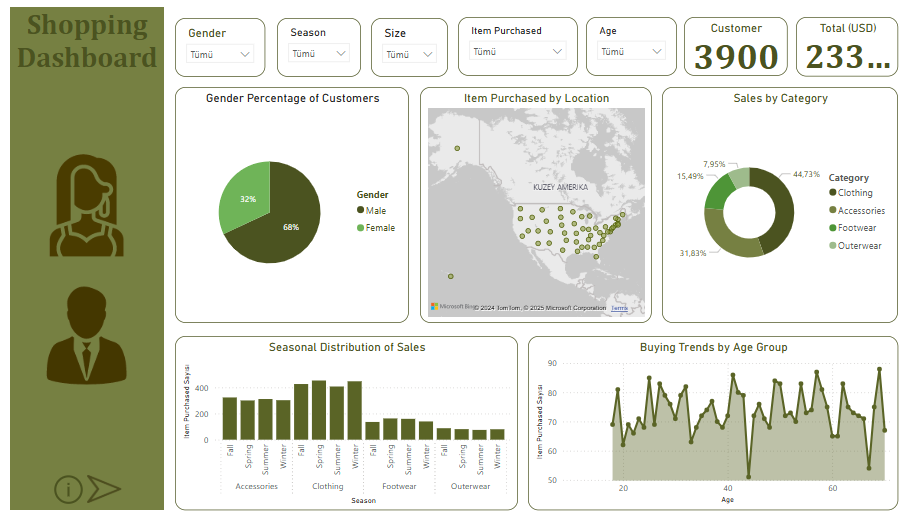

Layout of this report page (visuals, bound fields, positions):
{"tool":"powerbi","page":{"name":"Shopping Dashboard","canvas":[1280,720],"ordinal":0},"visuals":[{"type":"card","title":"Total (USD)","fields":{"Values":["Sum(shopping.Purchase Amount (USD))"]},"box":[1122.2,14.5,146.2,85.4],"z":0},{"type":"card","title":"Customer","fields":{"Values":["CountNonNull(shopping.Gender)"]},"box":[962.9,14.5,147.7,84],"z":1000},{"type":"pieChart","title":"Gender Percentage of Customers","fields":{"Category":["shopping.Gender"],"Y":["CountNonNull(shopping.Customer ID)"]},"box":[236,114.4,334.5,337.4],"z":2000},{"type":"slicer","fields":{"Values":["shopping.Gender"]},"box":[236,15.9,128.9,84],"z":3000},{"type":"clusteredColumnChart","title":"Seasonal Distribution of Sales","fields":{"Category":["shopping.Category","shopping.Season"],"Y":["CountNonNull(shopping.Item Purchased)"]},"box":[235.4,470.7,490,249.1],"z":4000},{"type":"areaChart","title":"Buying Trends by Age Group","fields":{"Category":["shopping.Age"],"Y":["CountNonNull(shopping.Item Purchased)"]},"box":[740,470,528.6,248.6],"z":5000},{"type":"slicer","title":"Size","fields":{"Values":["shopping.Size"]},"box":[515.5,15.9,110,84],"z":6000},{"type":"slicer","fields":{"Values":["shopping.Age"]},"box":[822.4,14.5,130.3,84],"z":7000},{"type":"slicer","fields":{"Values":["shopping.Item Purchased"]},"box":[640,14.5,170.9,84],"z":8000},{"type":"slicer","fields":{"Values":["shopping.Season"]},"box":[380.8,15.9,120.2,84],"z":9000},{"type":"donutChart","title":"Sales by Category","fields":{"Category":["shopping.Category"],"Y":["Sum(shopping.Purchase Amount (USD))"]},"box":[931,114.4,337.4,337.4],"z":10000},{"type":"shape","title":"Shopping Dashboard","box":[0,0,220,718.6],"z":11000},{"type":"map","title":"Item Purchased by Location","fields":{"Category":["shopping.Location"]},"box":[585.7,114.3,331.4,337.1],"z":12000},{"type":"actionButton","box":[57.1,660,52.9,58.6],"z":13000},{"type":"image","box":[31.4,204.3,155.7,157.1],"z":14000},{"type":"image","box":[31.4,394.3,155.7,150],"z":15000},{"type":"actionButton","box":[110,668.6,48.6,40],"z":16000}]}

Visuals, with their boxes in screenshot pixels (x1, y1, x2, y2), scaled from the page's 1280x720 canvas onto the 909x514 screenshot:
"Total (USD)" card: bbox(797, 10, 901, 71)
"Customer" card: bbox(684, 10, 789, 70)
"Gender Percentage of Customers" pieChart: bbox(168, 82, 405, 323)
slicer - shopping.Gender: bbox(168, 11, 259, 71)
"Seasonal Distribution of Sales" clusteredColumnChart: bbox(167, 336, 515, 513)
"Buying Trends by Age Group" areaChart: bbox(526, 336, 901, 513)
"Size" slicer: bbox(366, 11, 444, 71)
slicer - shopping.Age: bbox(584, 10, 677, 70)
slicer - shopping.Item Purchased: bbox(454, 10, 576, 70)
slicer - shopping.Season: bbox(270, 11, 356, 71)
"Sales by Category" donutChart: bbox(661, 82, 901, 323)
"Shopping Dashboard" shape: bbox(0, 0, 156, 513)
"Item Purchased by Location" map: bbox(416, 82, 651, 322)
actionButton: bbox(41, 471, 78, 513)
image: bbox(22, 146, 133, 258)
image: bbox(22, 281, 133, 389)
actionButton: bbox(78, 477, 113, 506)
